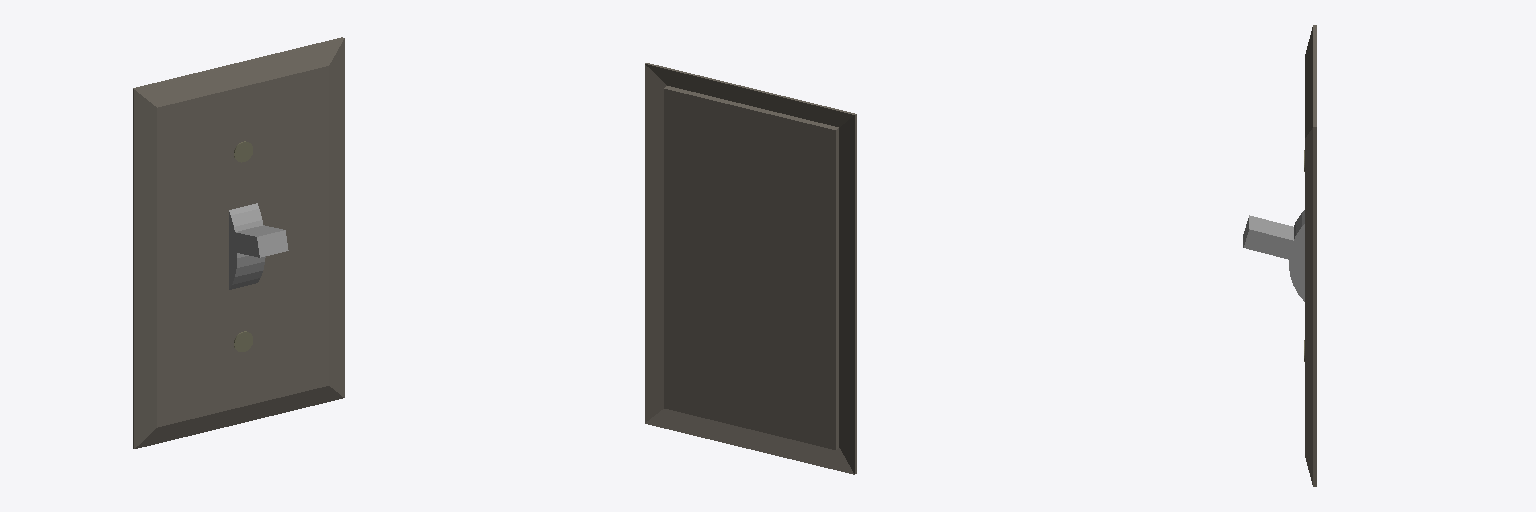
The model's file is switch.obj.
The picture shows the model from 3 angles: view 1: azimuth 30°, elevation 25°; view 2: azimuth 150°, elevation 25°; view 3: azimuth 270°, elevation 25°; orthographic projection.
Visible parts, largest first — view 1: 1:1; view 2: 1:1; view 3: 1:1.
Part boxes in pixels (x1,y1,x2,y2): 1:1: (133, 37, 344, 448); 1:1: (645, 63, 856, 474); 1:1: (1243, 25, 1316, 486).
Size of the model in its own units: 0.3493 by 0.5715 by 0.1051.